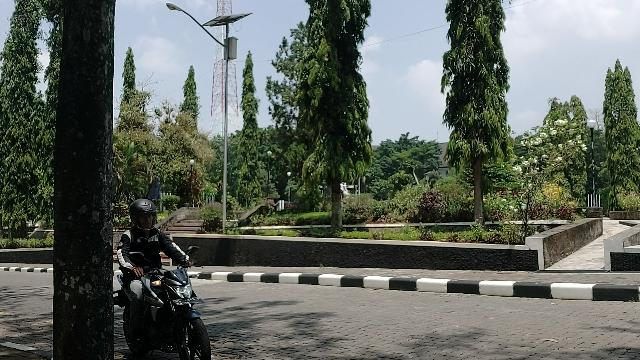helm: (131, 200, 158, 232)
motor: (115, 269, 212, 360)
